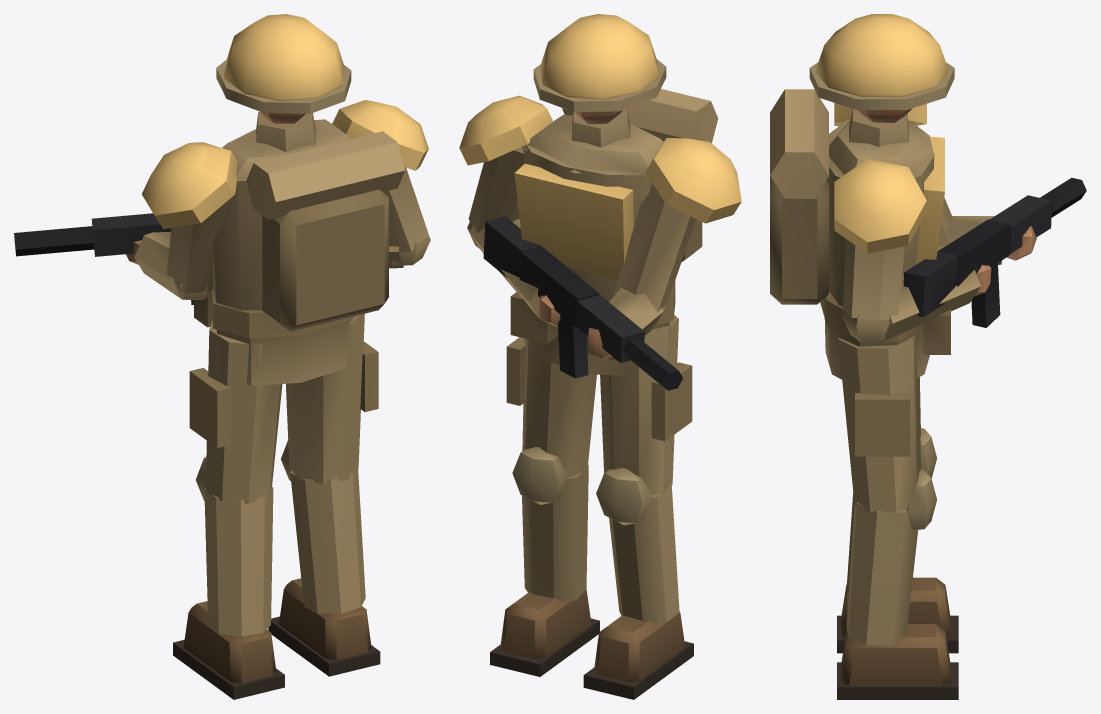
Rendered from rifleman.glb.
3 views of the same model, side by side, from view 1: azimuth 30°, elevation 25°; view 2: azimuth 150°, elevation 25°; view 3: azimuth 270°, elevation 25° (orthographic).
Parts seen in each view (by area): view 1: Rifleman; view 2: Rifleman; view 3: Rifleman.
Boxes of the visible parts, box(x1,y1,x2,y2) form: Rifleman: box(14, 14, 430, 699); Rifleman: box(459, 14, 741, 699); Rifleman: box(770, 14, 1086, 699).
Size of the model in its own units: 0.9228 by 1.81 by 0.8057.
